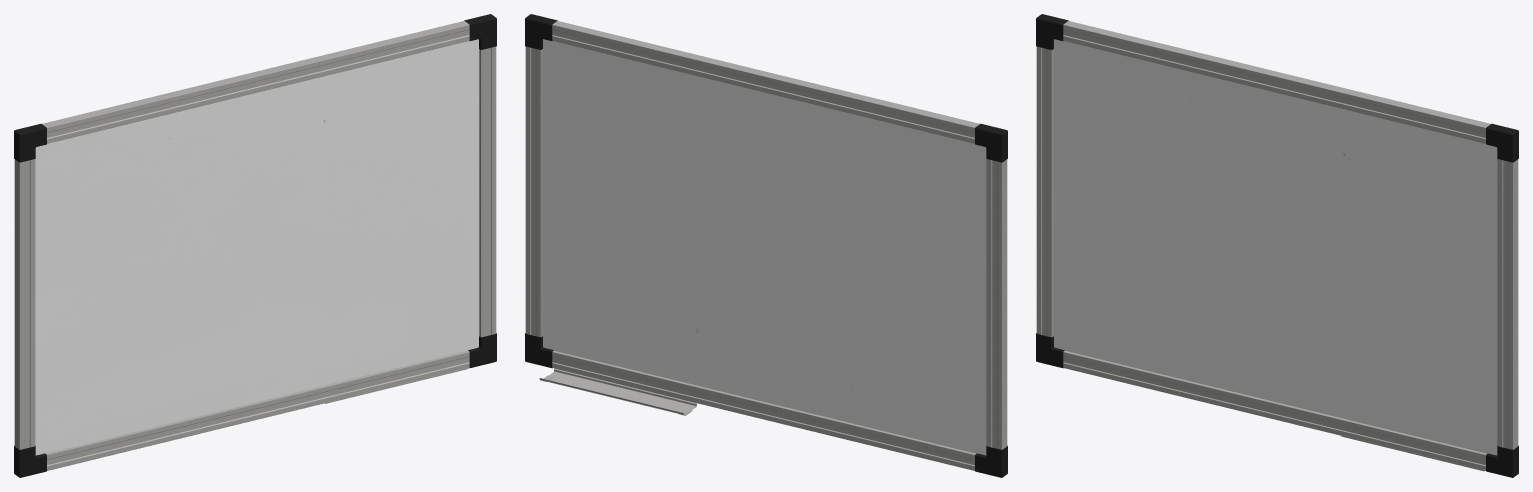
Rendered from baiban.fbx.
3 views of the same model, side by side, from view 1: azimuth 30°, elevation 25°; view 2: azimuth 150°, elevation 25°; view 3: azimuth 330°, elevation 25° (orthographic).
Visible parts, largest first — view 1: polySurface63, polySurface64; view 2: polySurface63, polySurface64; view 3: polySurface63, polySurface64.
Part boxes in pixels (x1,y1,x2,y2): polySurface63: [35, 39, 479, 455]; polySurface64: [14, 14, 496, 477]; polySurface63: [542, 39, 986, 455]; polySurface64: [525, 14, 1007, 477]; polySurface63: [1053, 39, 1497, 455]; polySurface64: [1036, 14, 1518, 477].
Bounding box in the file's own units: 129 × 89.39 × 9.19.
